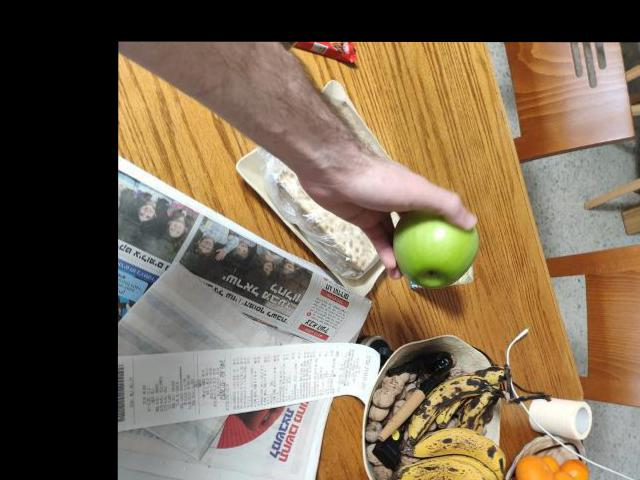apple: (385, 195, 488, 288)
